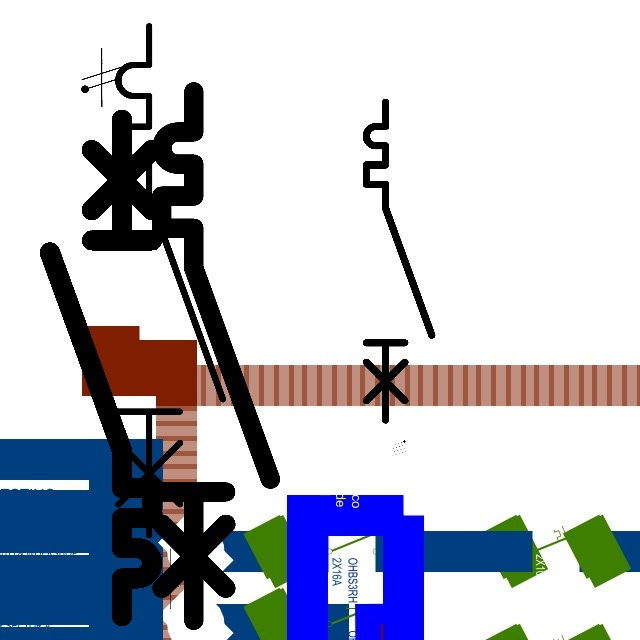interruptor_termomagnetico: (148, 78, 284, 634), (105, 13, 236, 548), (37, 107, 165, 629), (358, 94, 440, 428)
